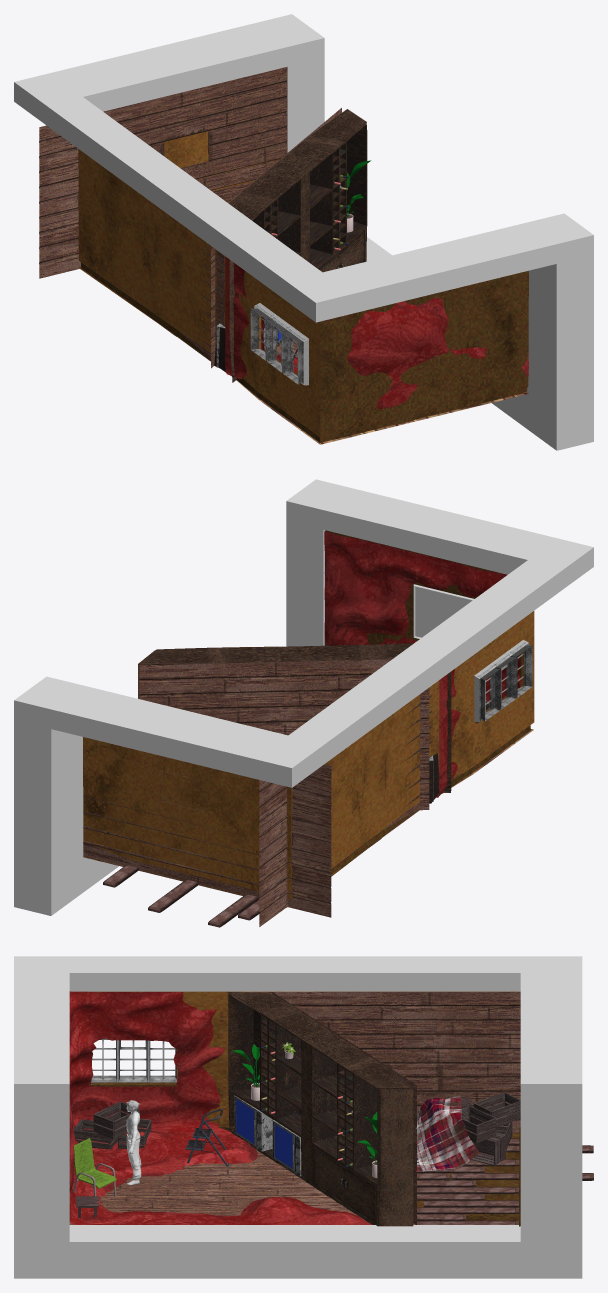
The model's file is WineroomFBX.fbx.
3 renders of one model, top to bottom at view 1: azimuth 30°, elevation 25°; view 2: azimuth 150°, elevation 25°; view 3: azimuth 270°, elevation 25°, orthographic. The views are drawn at different scales.
Visible parts, largest first — view 1: Blocker, Room, WoodWall.003, WineCabinet, Flesh, cabinettop, Window, WoodWall, WoodWall.001; view 2: Blocker, Room, WoodWall.001, Flesh, WoodWall.003, cabinettop, WoodWall.002, Window, Painting, WineCabinet, WoodWall, Plank.014 (+1 smaller); view 3: Blocker, Flesh, WineCabinet, WoodWall.002, WoodFloor, Room, cabinettop, Plane, Window, WoodWall, Chair, WineCrate.002 (+17 smaller).
Boxes of the visible parts, x1,y1,x2,y2 form: Blocker: [14, 14, 593, 450]; Room: [78, 131, 528, 444]; WoodWall.003: [39, 67, 287, 278]; WineCabinet: [214, 109, 367, 382]; Flesh: [225, 256, 528, 409]; cabinettop: [229, 109, 366, 219]; Window: [250, 303, 308, 385]; WoodWall: [174, 248, 226, 372]; WoodWall.001: [211, 108, 341, 368]; Blocker: [14, 479, 593, 915]; Room: [83, 530, 534, 907]; WoodWall.001: [139, 659, 429, 810]; Flesh: [324, 531, 521, 797]; WoodWall.003: [83, 764, 331, 917]; cabinettop: [139, 643, 413, 663]; WoodWall.002: [259, 780, 286, 926]; Window: [474, 640, 532, 722]; Painting: [413, 584, 474, 638]; WineCabinet: [138, 650, 451, 803]; WoodWall: [286, 695, 432, 907]; Plank.014: [148, 879, 198, 912]; Blocker: [14, 956, 582, 1278]; Flesh: [69, 991, 371, 1224]; WineCabinet: [228, 993, 413, 1226]; WoodWall.002: [301, 992, 520, 1133]; WoodFloor: [100, 1149, 357, 1215]; Room: [69, 991, 520, 1226]; cabinettop: [226, 991, 411, 1087]; Plane: [416, 1095, 479, 1171]; Window: [91, 1038, 176, 1082]; WoodWall: [250, 992, 520, 1091]; Chair: [73, 1138, 116, 1196]; WineCrate.002: [93, 1101, 139, 1138].
Size of the model in its own units: 1534 by 1063 by 2873.
